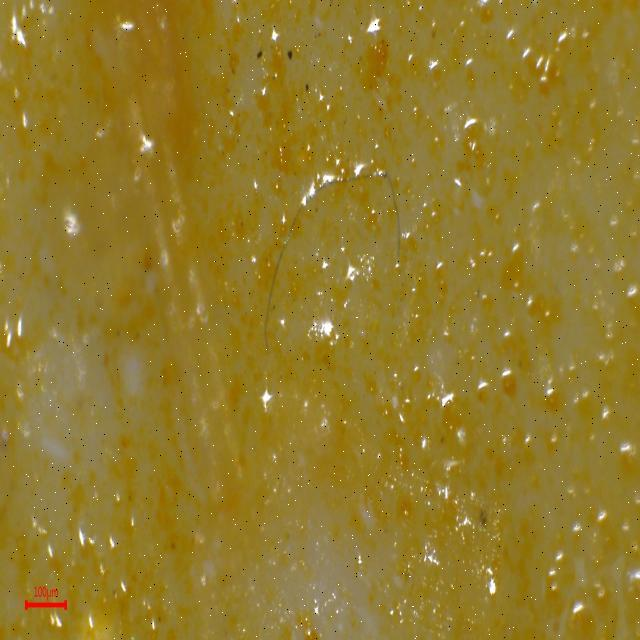fibers: (205, 146, 434, 351)
